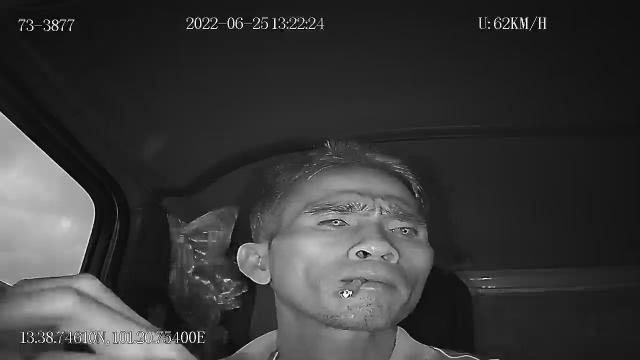SafeDriving: (310, 209, 358, 234), (382, 216, 428, 242)
Smoking: (342, 276, 366, 300)
